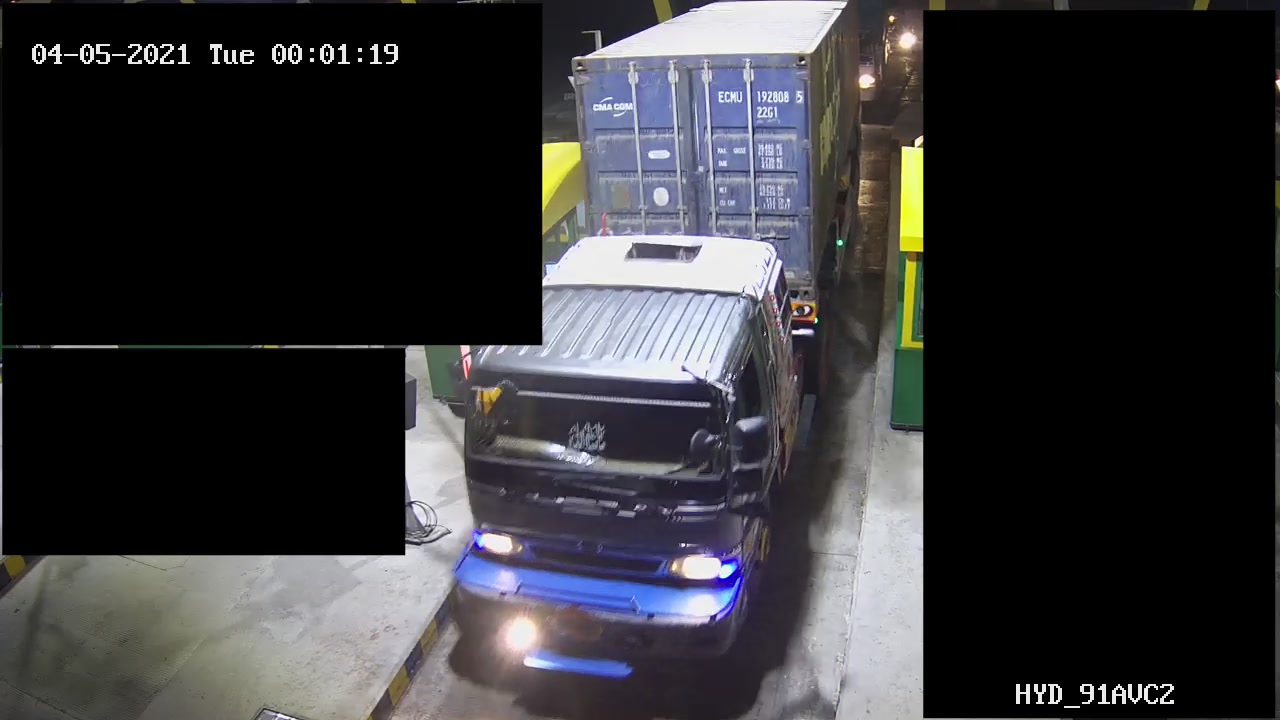F6: (430, 1, 872, 695)
